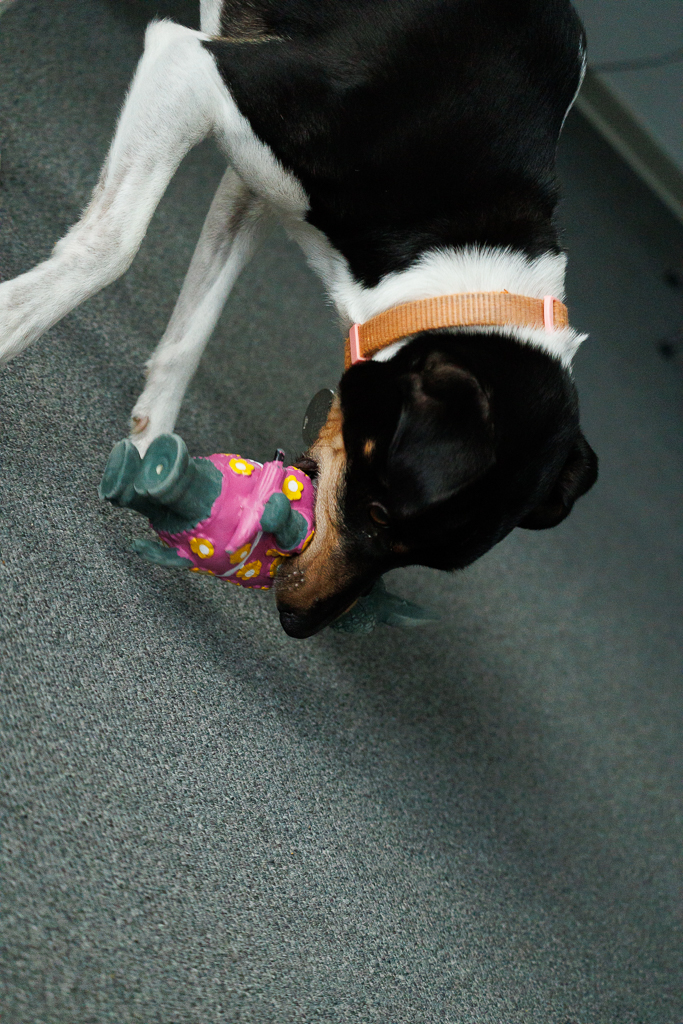Dog: (0, 0, 620, 656)
Humanoid: (92, 426, 461, 644)
